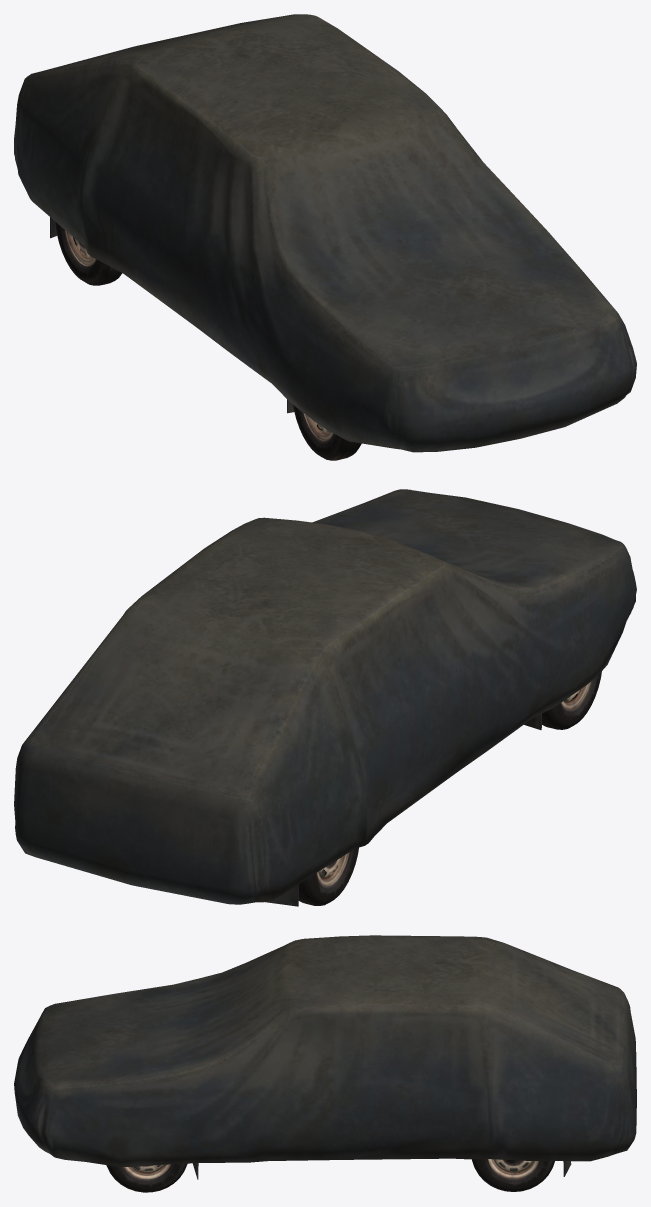
Rendered from covered-car.glb.
The picture shows the model from 3 angles, top to bottom: view 1: azimuth 30°, elevation 25°; view 2: azimuth 150°, elevation 25°; view 3: azimuth 270°, elevation 25°; orthographic projection. The views are drawn at different scales.
Parts seen in each view (by area): view 1: covered_car, covered_car_wheel_03, covered_car_wheel_02; view 2: covered_car, covered_car_wheel_03, covered_car_wheel_02; view 3: covered_car, covered_car_wheel_04, covered_car_wheel_01.
Boxes of the visible parts, x1=… form: covered_car: x1=14, y1=14, x2=636, y2=452; covered_car_wheel_03: x1=55, y1=222, x2=122, y2=285; covered_car_wheel_02: x1=293, y1=405, x2=361, y2=460; covered_car: x1=14, y1=489, x2=636, y2=906; covered_car_wheel_03: x1=298, y1=847, x2=358, y2=905; covered_car_wheel_02: x1=542, y1=671, x2=601, y2=729; covered_car: x1=14, y1=935, x2=636, y2=1179; covered_car_wheel_04: x1=472, y1=1159, x2=554, y2=1191; covered_car_wheel_01: x1=106, y1=1163, x2=187, y2=1192.
Size of the model in its own units: 1.79 by 1.41 by 4.38.
1 material, 1 textured.
